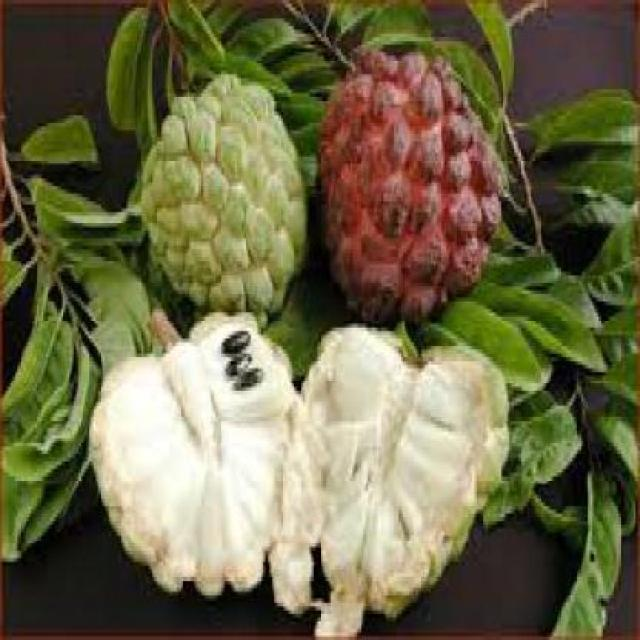BIODEGRADABLE: (301, 326, 508, 636), (90, 314, 298, 595), (320, 51, 501, 321), (134, 74, 306, 310), (269, 396, 321, 619)
